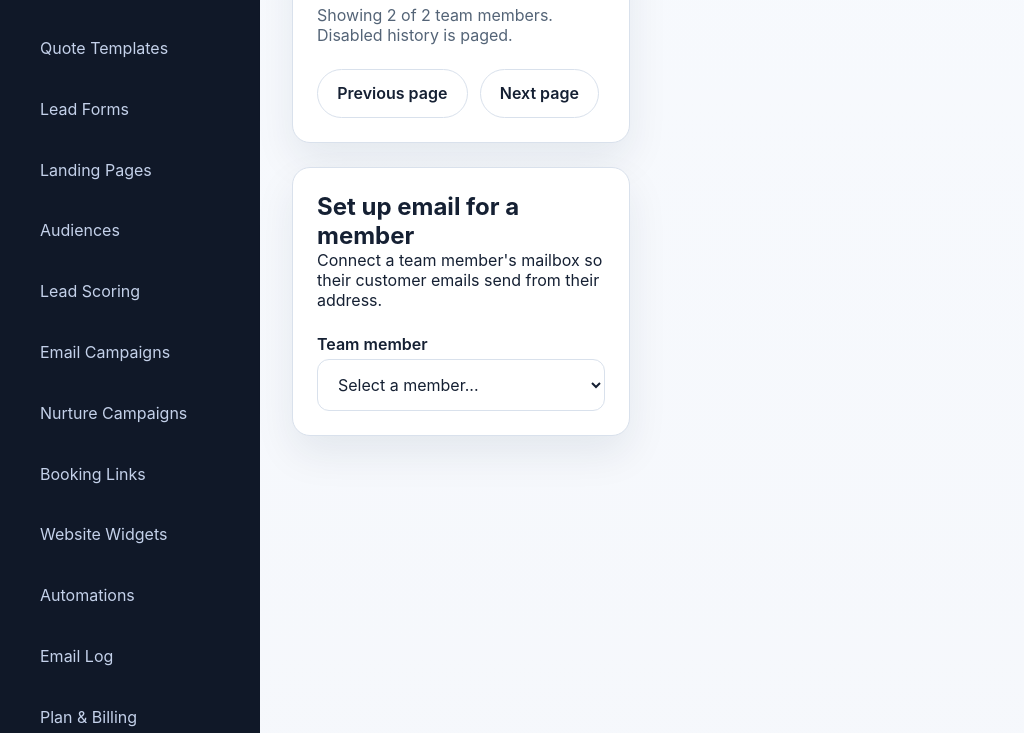
admin member email management › lets an admin set a member mailbox
The image size is (1024, 733).
(page scrolled)
Select "Rep Person (rep@acme.test)" in the dropdown labelled "Team member" at {"x": 461, "y": 385}, box x1=317 y1=359 x2=605 y2=410
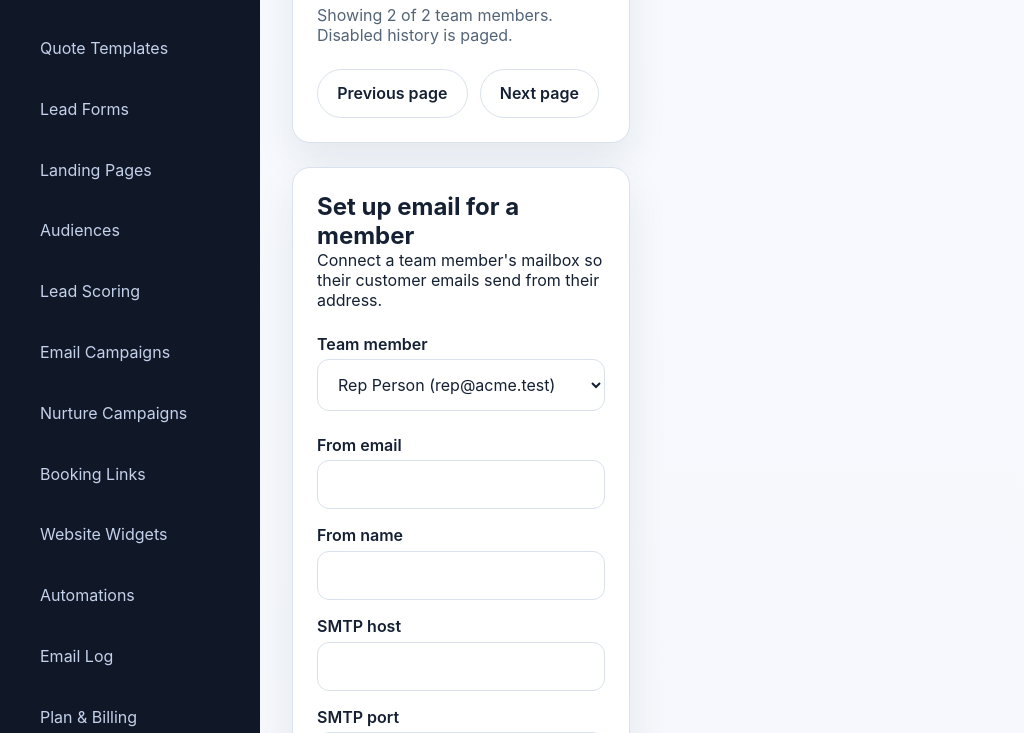
Type "rep@acme.test" into the field labelled "From email" at {"x": 461, "y": 485}, box x1=317 y1=460 x2=605 y2=509
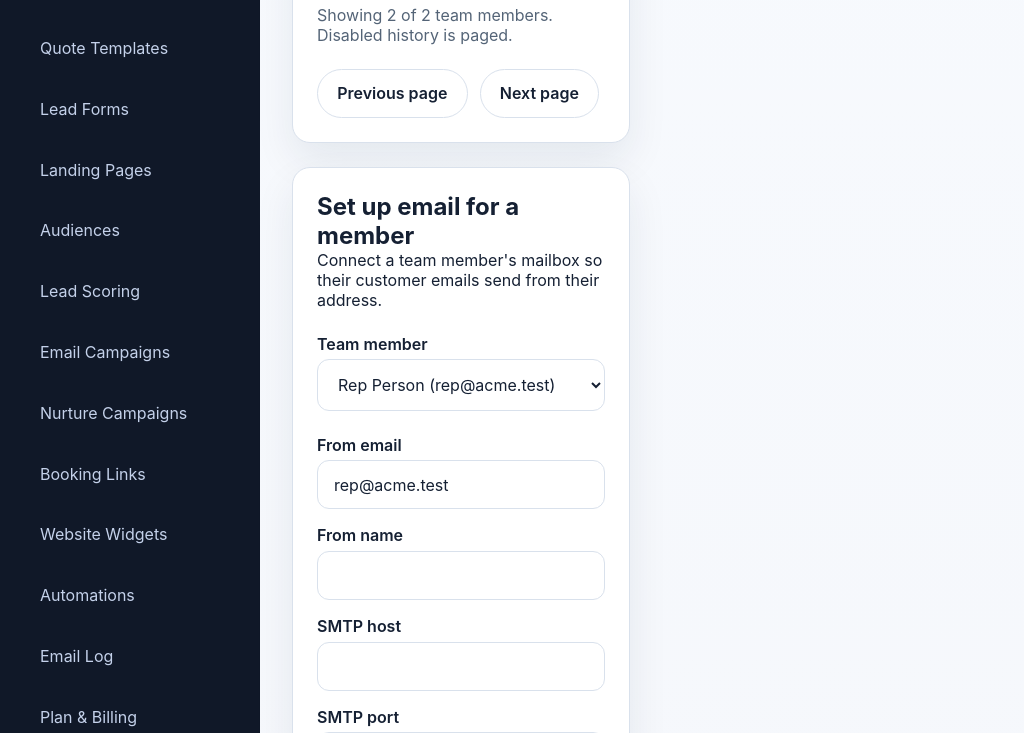
Type "smtp.acme.test" into the field labelled "SMTP host" at {"x": 461, "y": 666}, box x1=317 y1=642 x2=605 y2=691
(page scrolled)
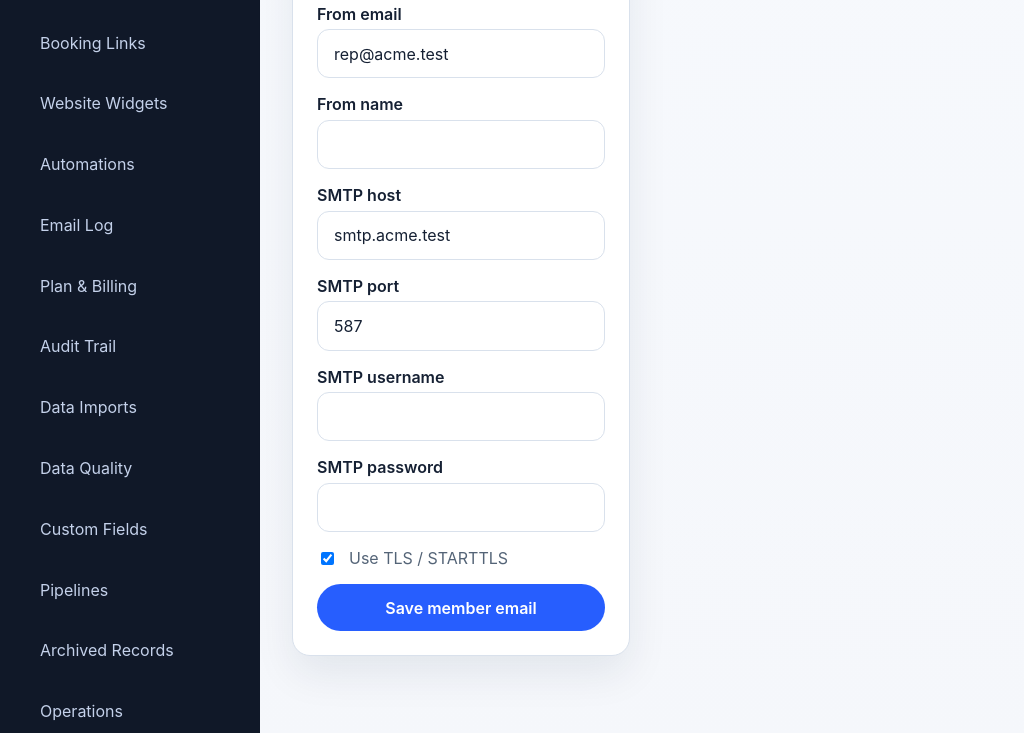
Type "rep" into the field labelled "SMTP username" at {"x": 461, "y": 417}, box x1=317 y1=392 x2=605 y2=442
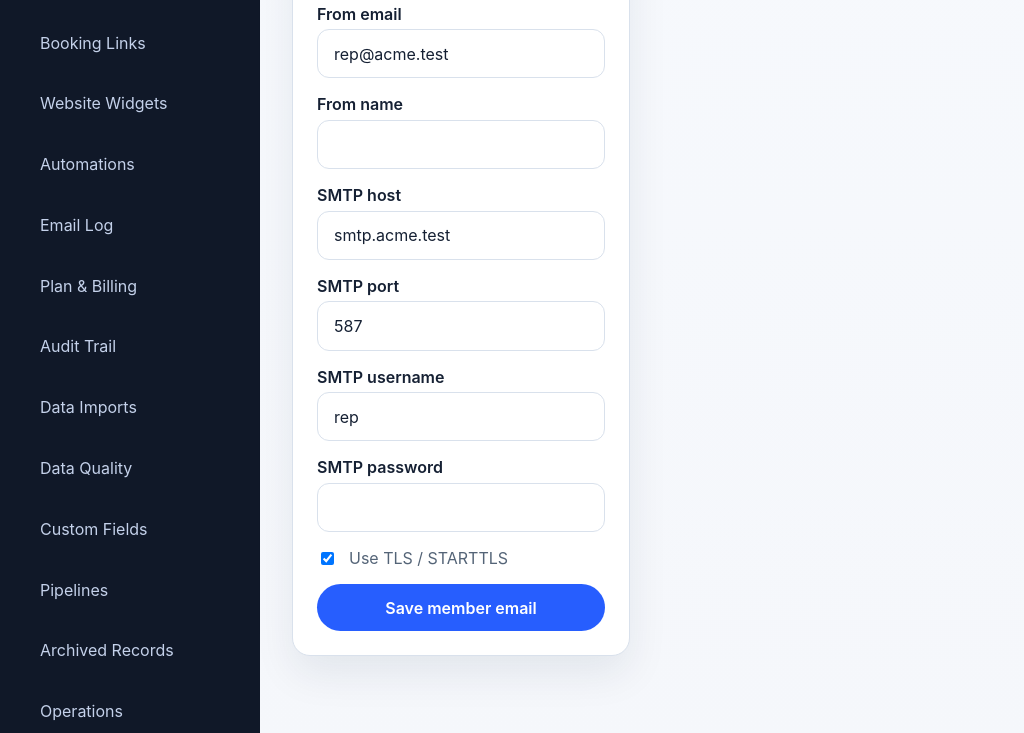
Type "app-pass" into the password field labelled "SMTP password" at {"x": 461, "y": 508}, box x1=317 y1=483 x2=605 y2=532
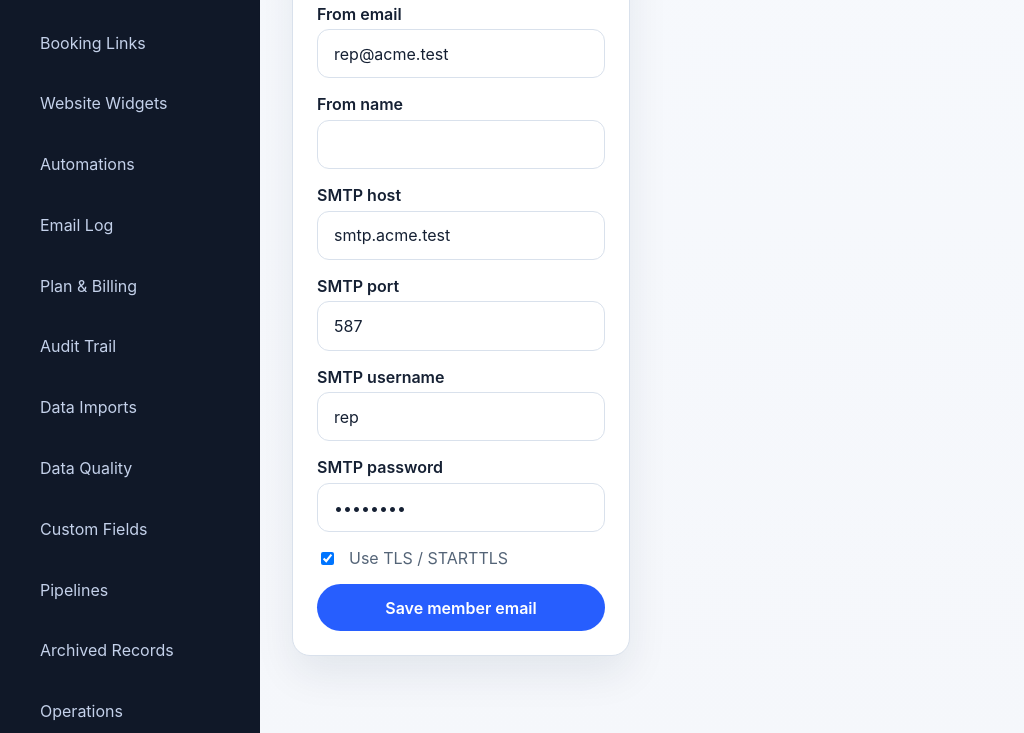
Click the button "Save member email" at {"x": 461, "y": 608}, box x1=317 y1=584 x2=605 y2=631
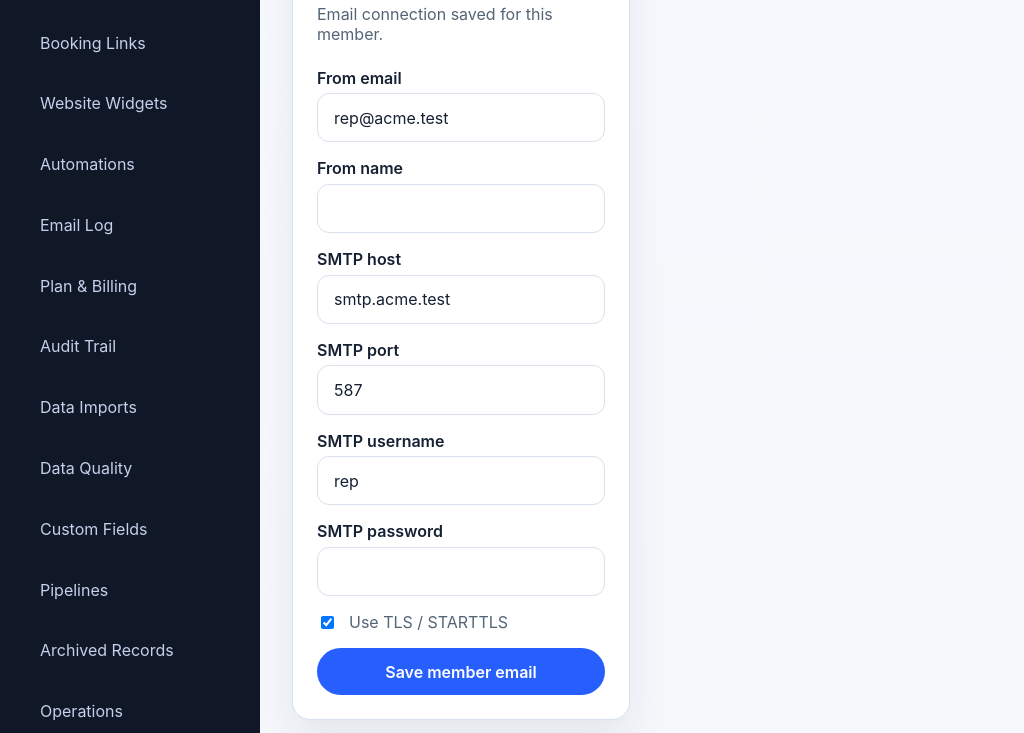
expect the text "Email connection saved for this member." is shown: met, box x1=317 y1=4 x2=553 y2=44
